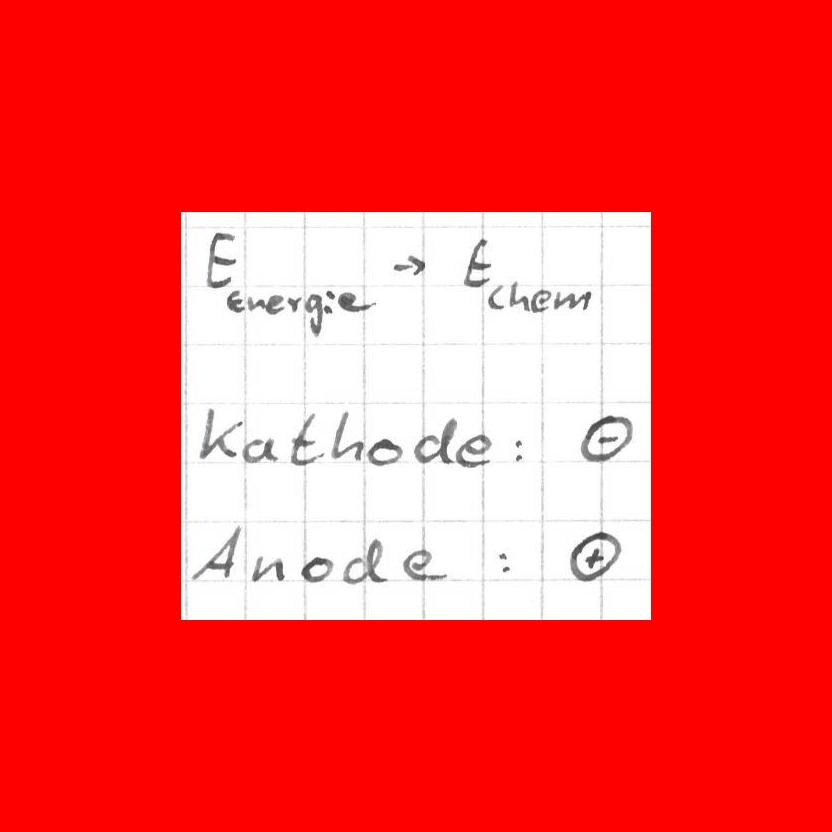Char: (190, 525, 242, 585), (569, 530, 620, 586), (576, 414, 631, 462), (203, 225, 239, 294), (198, 406, 240, 463), (287, 411, 324, 466), (344, 540, 389, 584), (414, 417, 453, 466), (328, 412, 363, 466), (460, 236, 492, 295), (402, 547, 445, 582), (457, 430, 490, 471), (337, 288, 377, 316), (368, 435, 401, 467), (250, 552, 284, 583), (242, 435, 277, 464), (554, 285, 590, 312), (305, 289, 325, 336), (300, 554, 331, 584), (392, 253, 428, 277), (508, 279, 529, 313), (484, 281, 506, 312), (528, 288, 552, 314), (224, 288, 245, 314), (494, 550, 514, 574), (321, 286, 336, 317), (247, 291, 268, 313), (264, 292, 283, 316), (510, 436, 525, 464), (284, 291, 303, 313)
